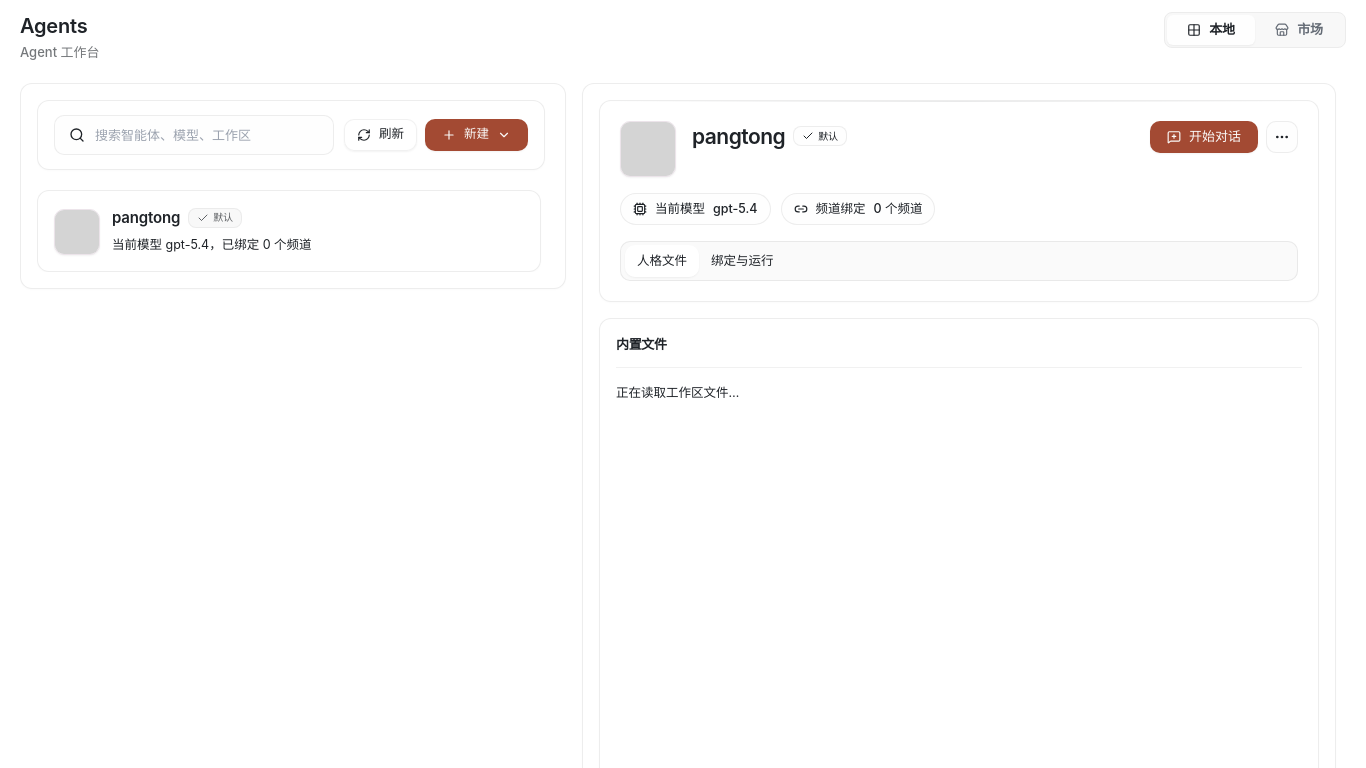
agents workbench layout › keeps bindings and runtime in a dedicated detail tab instead of mixing them into overview
Step 1. Click the button "绑定与运行" → (742, 261), box [699,245,786,277]
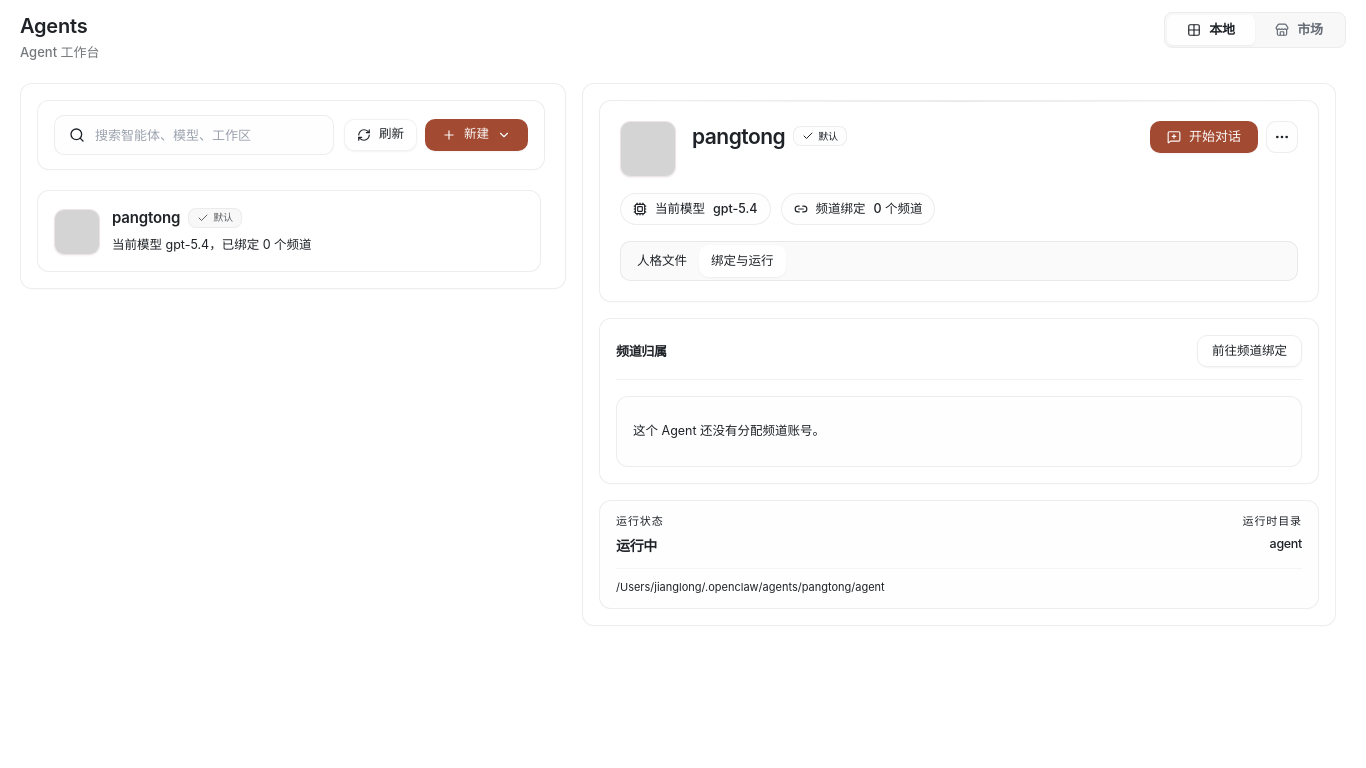
Result: the text "运行状态" is shown at [616,513,664,529]
Result: the text "agent" is shown at [1270,536,1302,551]
Result: the button "前往频道绑定" is shown at [1197,335,1302,367]
